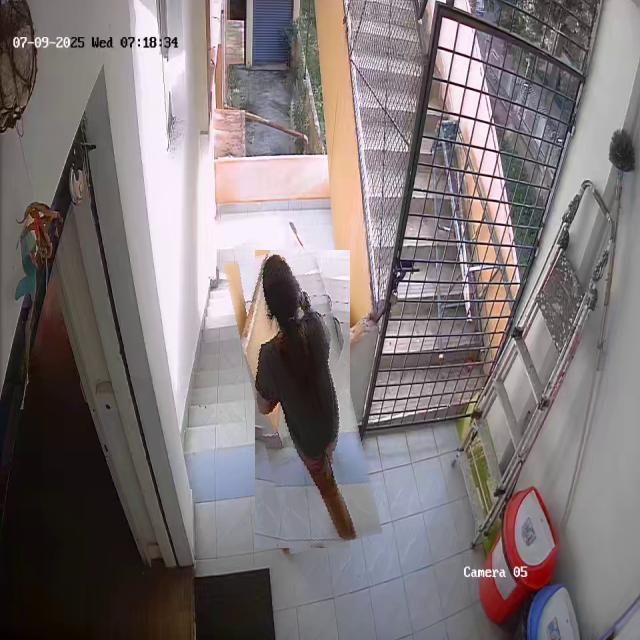person: (239, 247, 366, 551)
